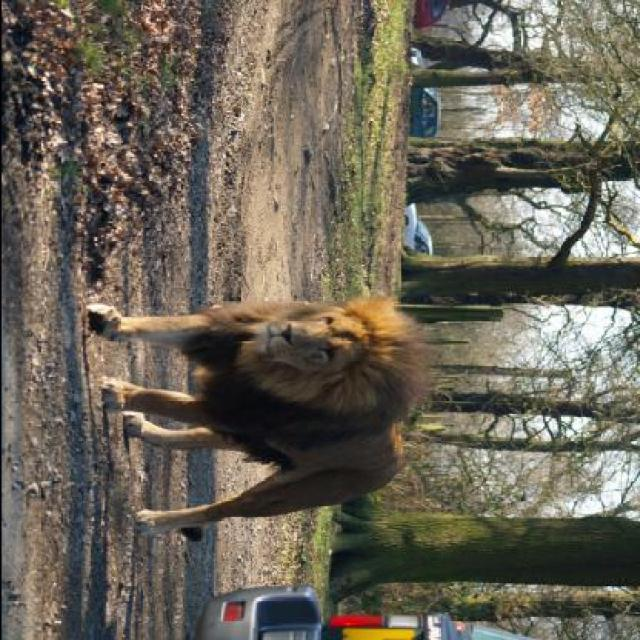Lion: (40, 290, 429, 552)
